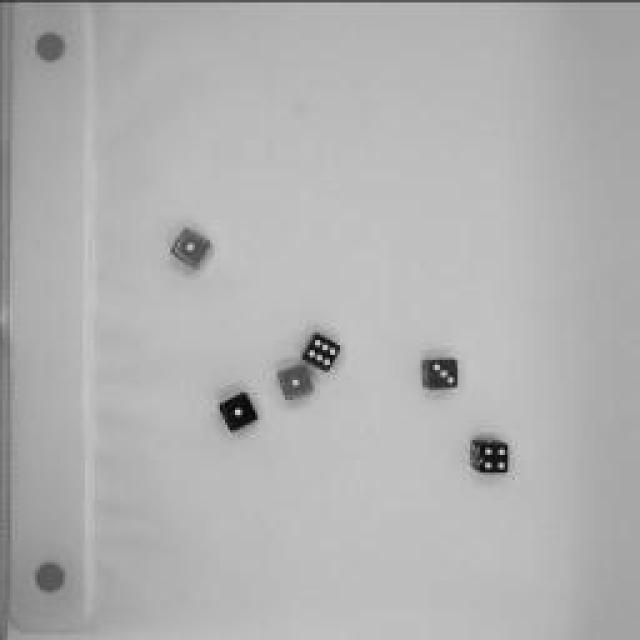dice_1: (168, 224, 214, 274), (215, 388, 260, 432), (276, 360, 316, 402)
dice_3: (420, 352, 460, 392)
dice_4: (466, 431, 514, 479)
dice_6: (300, 326, 345, 372)
